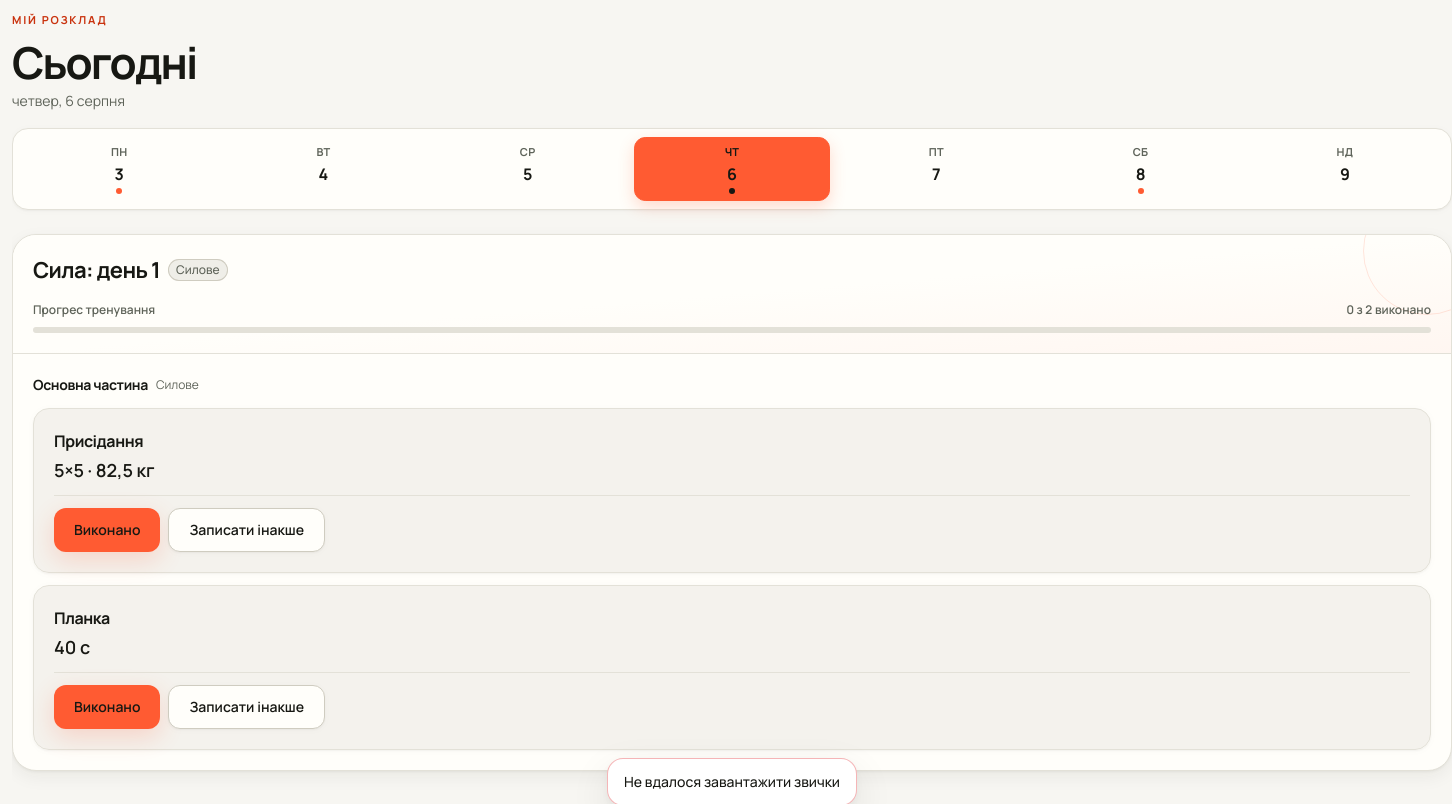
Test: workout logging › writes the prescribed numbers as the actuals in one tap
This screenshot has width=1452, height=804.
Check: the heading "Присідання" is shown, box [54,430,143,452]
What coordinates should you click on to do the following:
click the button "Виконано" below "5×5 · 82,5 кг"
I would click on:
 (107, 530)
Its box is [54,508,160,552].
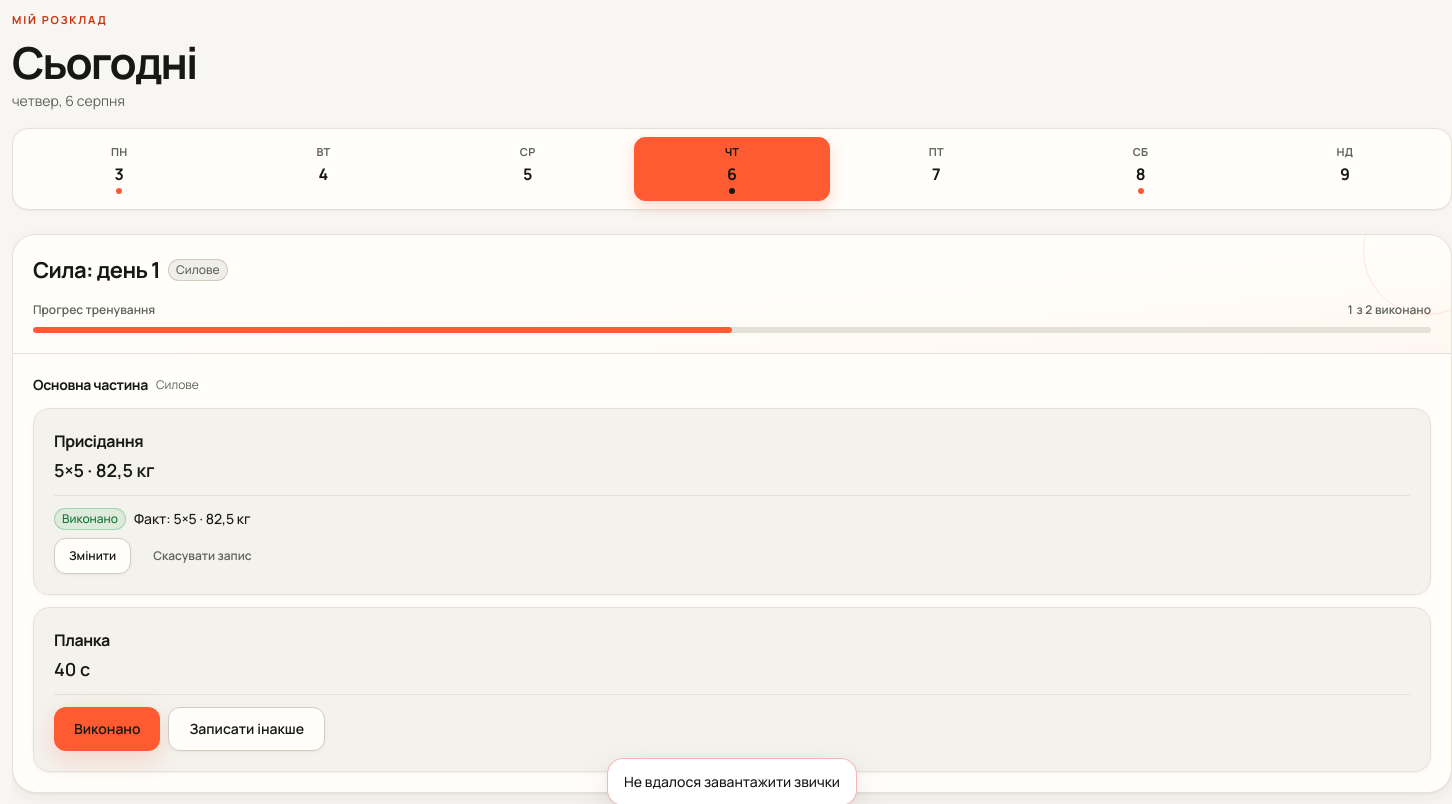
Check: the text "Виконано" is shown, box [54,508,126,530]
Check: the text "Факт: 5×5 · 82,5 кг" is shown, box [134,508,250,530]
Check: the text "1 з 2 виконано" is shown, box [1347,301,1431,319]
